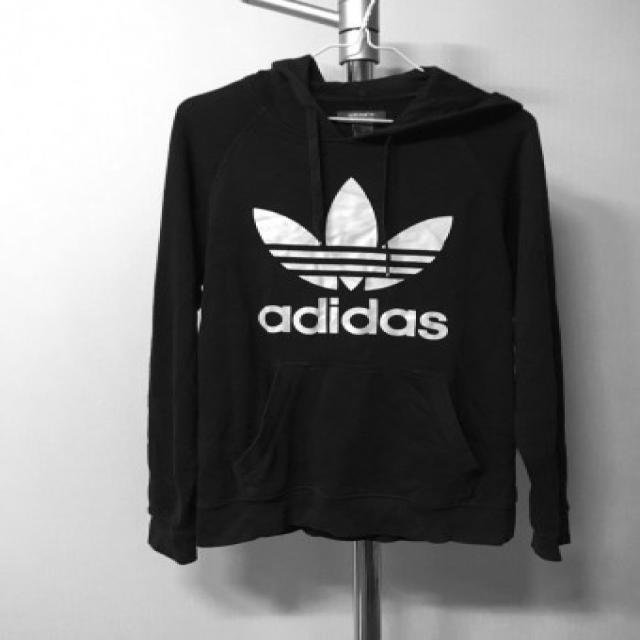Adidas: (239, 168, 470, 296)
